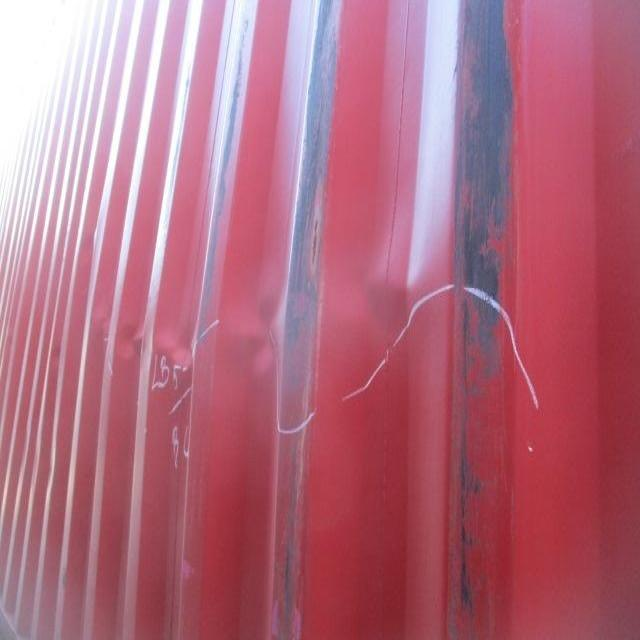dent: (70, 240, 442, 393)
